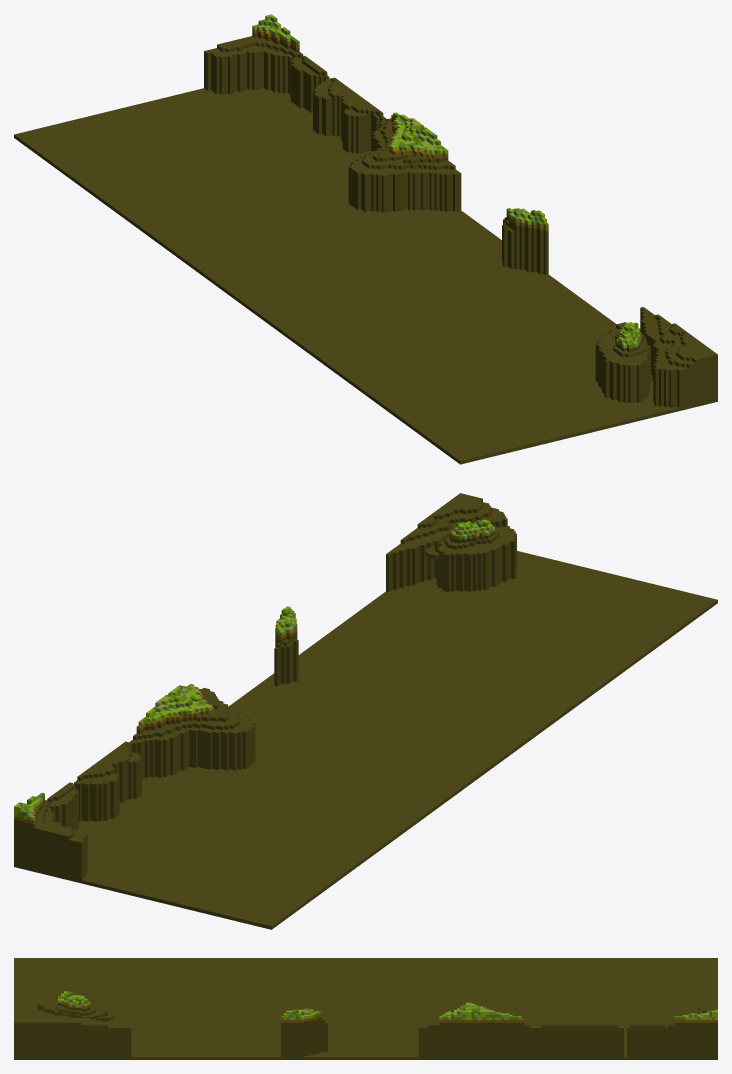
The model's file is Tab C5-0.obj.
The picture shows the model from 3 angles, top to bottom: view 1: azimuth 30°, elevation 25°; view 2: azimuth 150°, elevation 25°; view 3: azimuth 270°, elevation 25°; orthographic projection. The views are drawn at different scales.
Size of the model in its own units: 8 by 1.8 by 24.
1 material, 1 textured.
